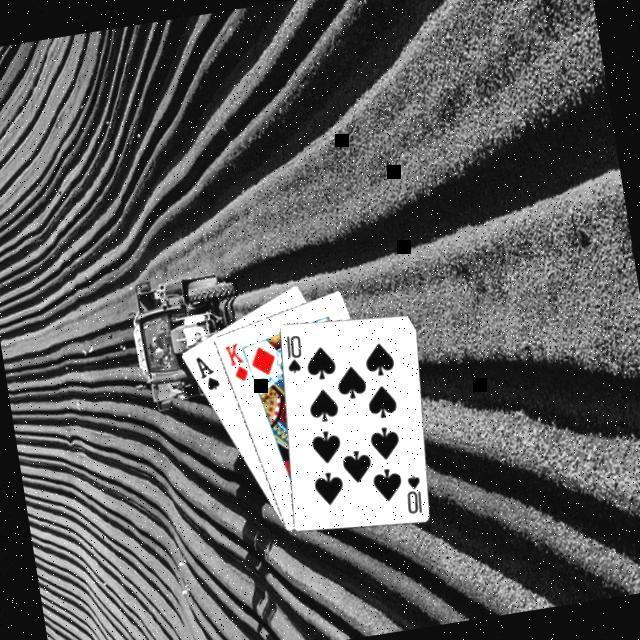10S: (277, 333, 307, 380), (398, 472, 427, 520)
AS: (190, 352, 222, 398)
KD: (219, 341, 251, 389)
